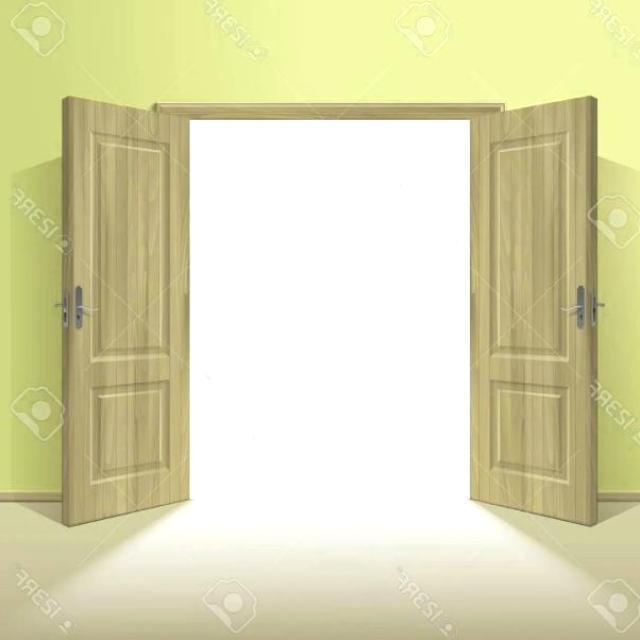door: (60, 95, 190, 526), (469, 94, 599, 525)
